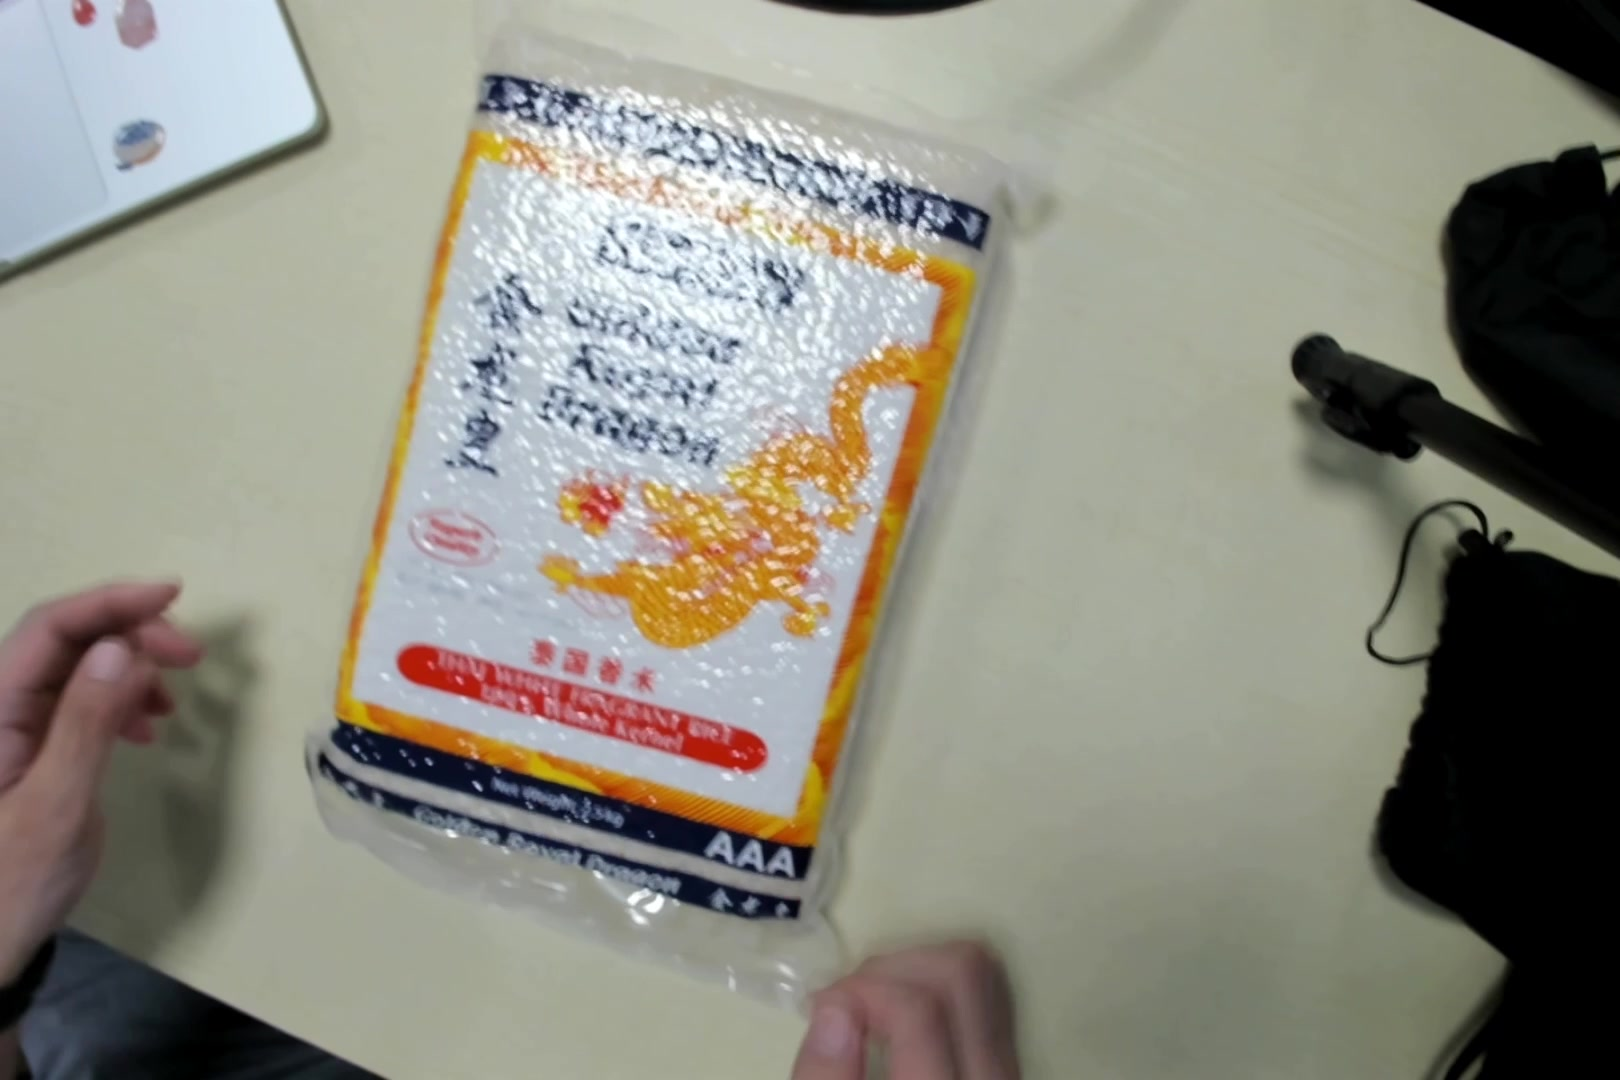Rice(White)_2000-2999g_NonHalal_NonHealthy: (318, 14, 1014, 962)
